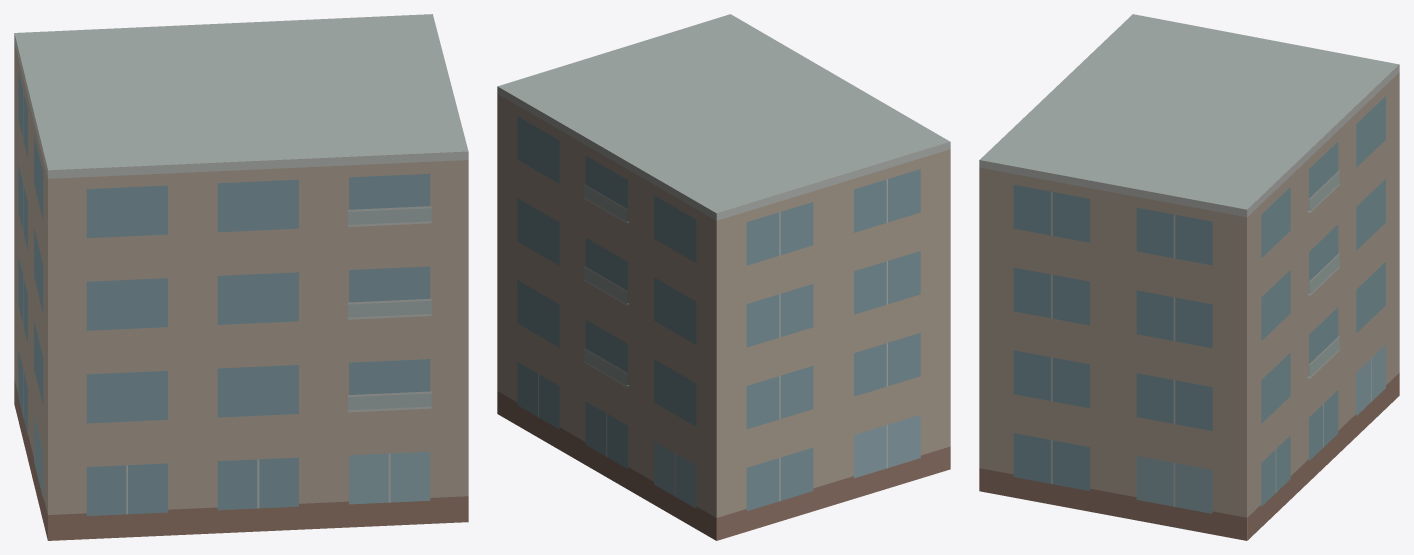
File: survey-upis-32933469.glb
3 views of the same model, side by side, from view 1: azimuth 30°, elevation 25°; view 2: azimuth 150°, elevation 25°; view 3: azimuth 270°, elevation 25° (orthographic). The views are drawn at different scales.
Visible parts, largest first — view 1: survey-upis-32933469.tmp; view 2: survey-upis-32933469.tmp; view 3: survey-upis-32933469.tmp.
Part boxes in pixels (x1,y1,x2,y2): survey-upis-32933469.tmp: (14, 14, 468, 540); survey-upis-32933469.tmp: (497, 14, 950, 540); survey-upis-32933469.tmp: (979, 14, 1399, 540).
Bounding box in the file's own units: 13.44 × 10.6 × 12.2.
